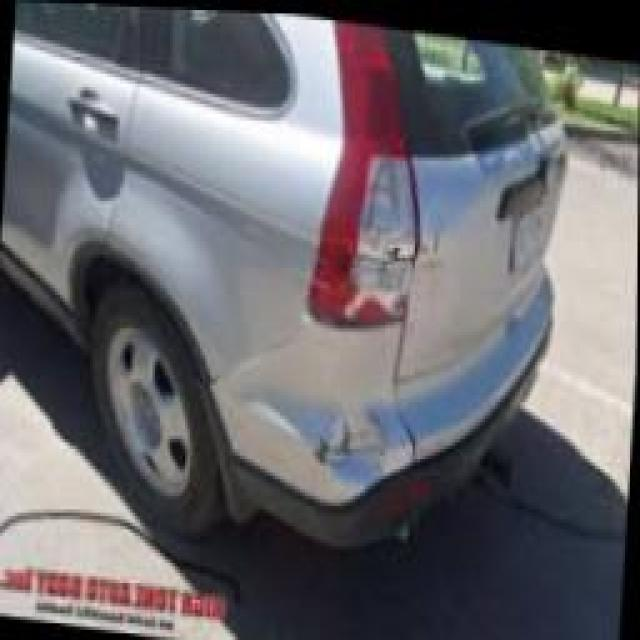Fender: (219, 317, 415, 499)
